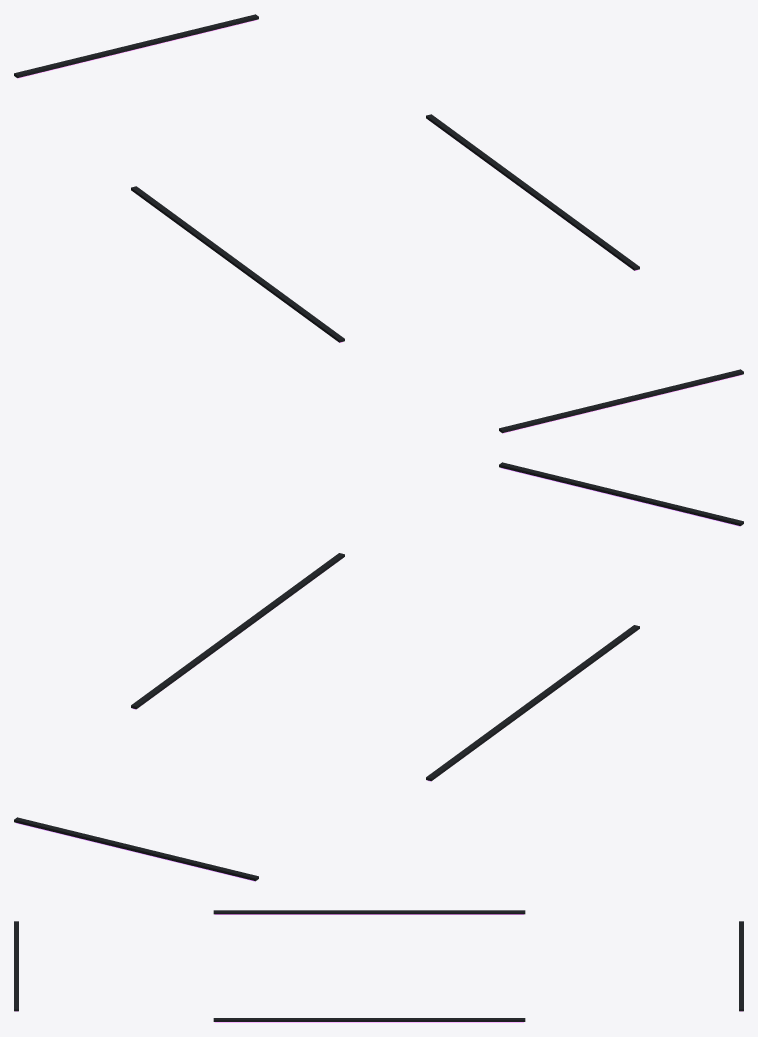
File: strada_evo.glb
The picture shows the model from 3 angles, top to bottom: view 1: azimuth 30°, elevation 25°; view 2: azimuth 150°, elevation 25°; view 3: azimuth 270°, elevation 25°; orthographic projection. The views are drawn at different scales.
Parts seen in each view (by area): view 1: model; view 2: model; view 3: model.
Boxes of the visible parts, box(x1,y1,x2,y2) form: model: box(14, 14, 743, 433); model: box(14, 462, 743, 881); model: box(14, 910, 743, 1022).
Size of the model in its own units: 1.48 by 0.0178 by 4.16.
Materials: 2 (1 with a texture image).
